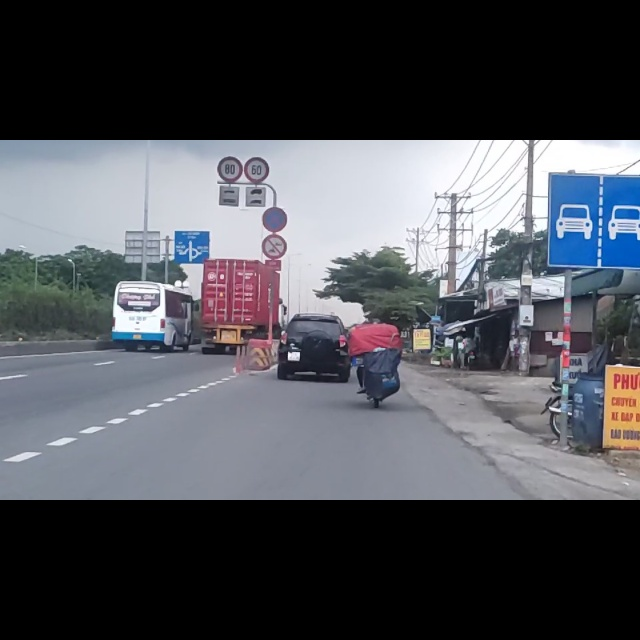bien_cam: (548, 59, 640, 228), (262, 117, 289, 164), (217, 30, 243, 76), (261, 166, 287, 211), (245, 30, 270, 76)
